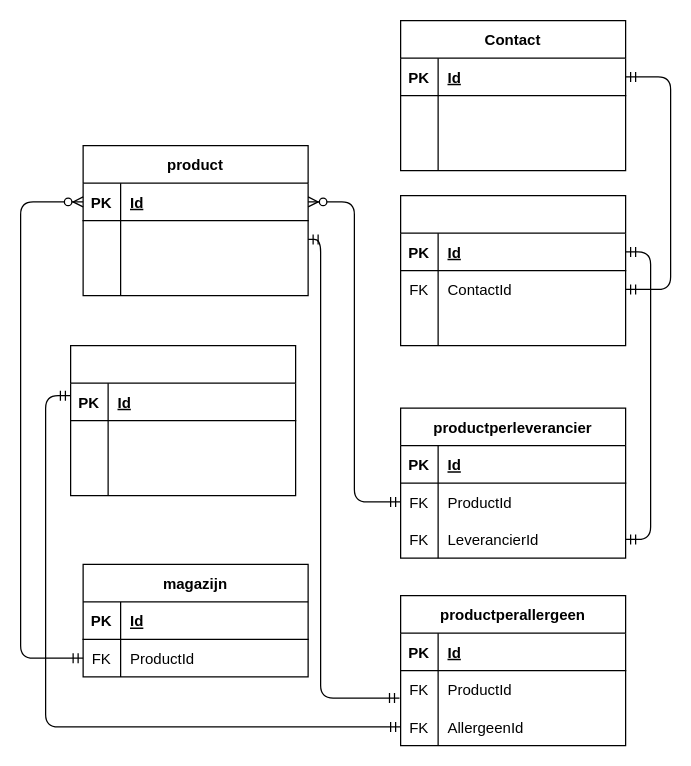
Some shapes in this 691 by 766 pixel diagram are drawn without their labels. Each missing label, with the box of its shape:
allergeen: (69, 344, 296, 496)
leverancier: (399, 194, 626, 346)
